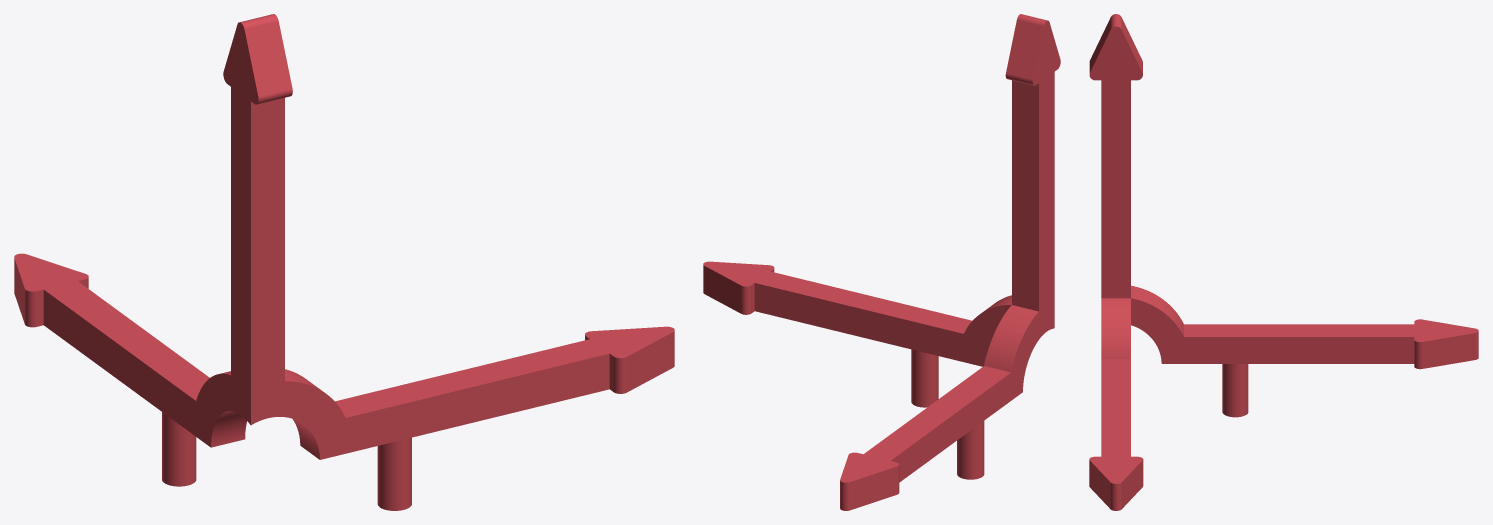
Rendered from SMK xyz axes.glb.
3 views of the same model, side by side, from view 1: azimuth 30°, elevation 25°; view 2: azimuth 150°, elevation 25°; view 3: azimuth 270°, elevation 25° (orthographic). The views are drawn at different scales.
Bounding box in the file's own units: 0.083 × 0.092 × 0.083.
